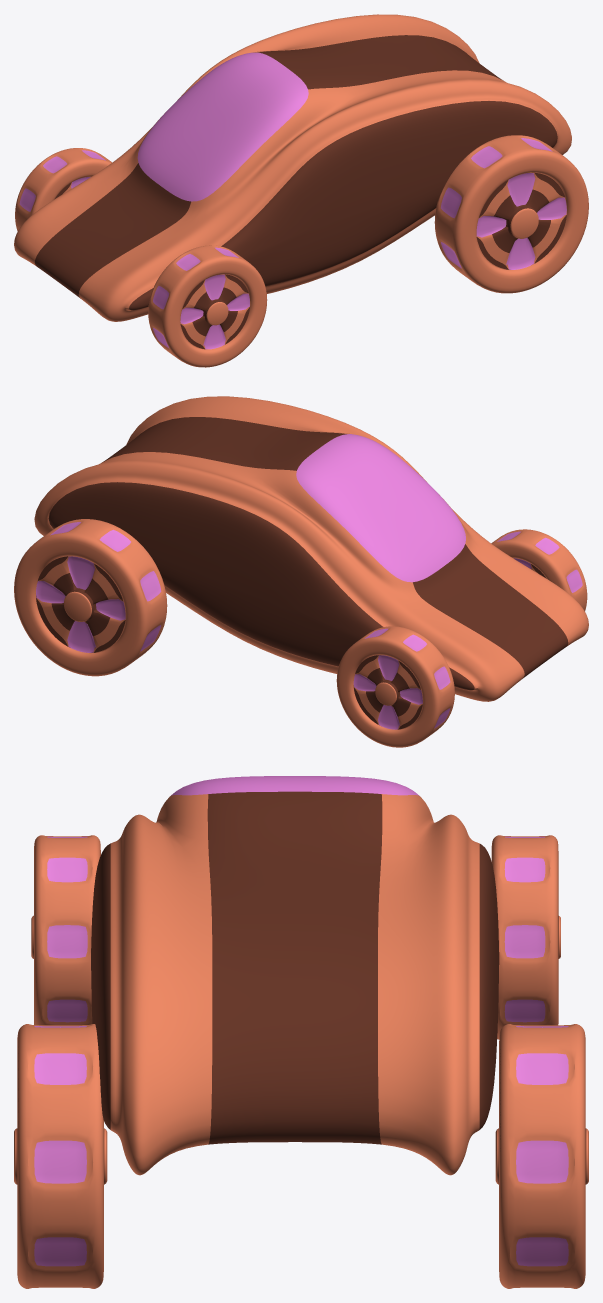
The model's file is smooth car.fbx.
The picture shows the model from 3 angles, top to bottom: view 1: azimuth 30°, elevation 25°; view 2: azimuth 150°, elevation 25°; view 3: azimuth 270°, elevation 25°; orthographic projection. The views are drawn at different scales.
Visible parts, largest first — view 1: Plane, Circle, Circle.008, Circle.001; view 2: Plane, Circle.002, Circle.001, Circle.008; view 3: Plane, Circle.002, Circle, Circle.001, Circle.008.
Boxes of the visible parts, left/top/right/bottom form: Plane: left=14, top=14, right=571, bottom=321; Circle: left=434, top=135, right=588, bottom=293; Circle.008: left=148, top=245, right=267, bottom=367; Circle.001: left=15, top=148, right=111, bottom=231; Plane: left=34, top=396, right=588, bottom=701; Circle.002: left=14, top=519, right=167, bottom=676; Circle.001: left=336, top=626, right=454, bottom=747; Circle.008: left=491, top=529, right=587, bottom=611; Plane: left=91, top=776, right=499, bottom=1175; Circle.002: left=495, top=1024, right=588, bottom=1288; Circle: left=14, top=1024, right=107, bottom=1288; Circle.001: left=491, top=835, right=560, bottom=1039; Circle.008: left=31, top=835, right=100, bottom=1025.
Bounding box in the file's own units: 272 × 116 × 168.
